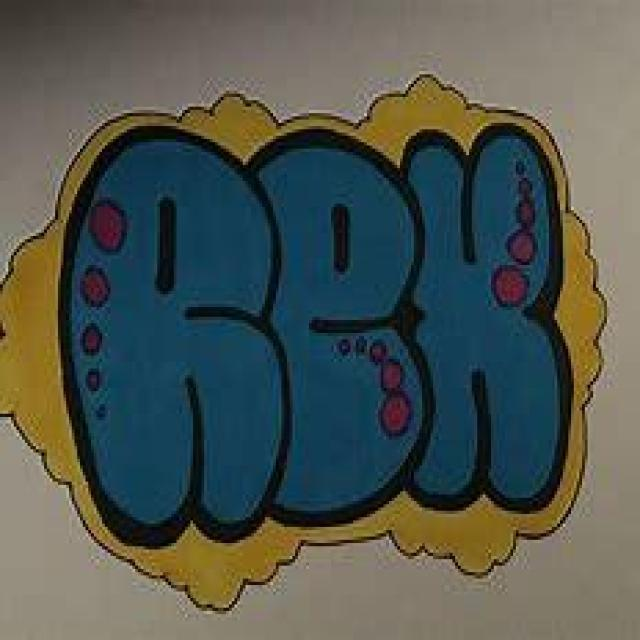nonspitting: (0, 71, 607, 614)
